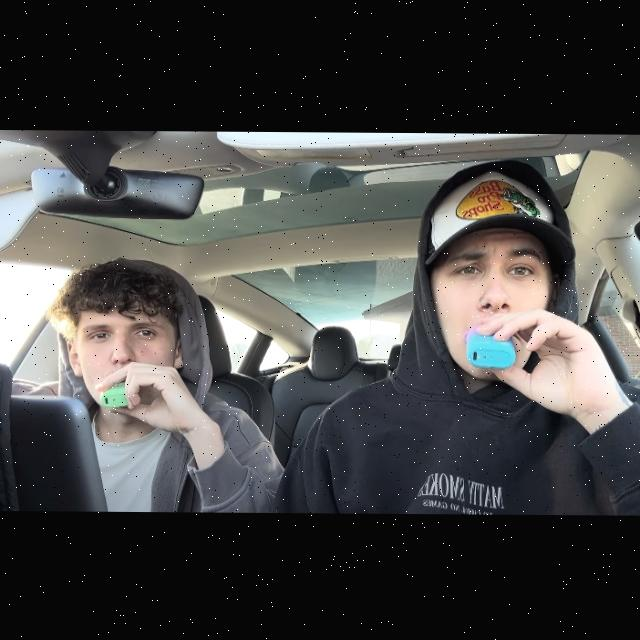vape: (462, 324, 516, 368), (100, 382, 128, 407)
